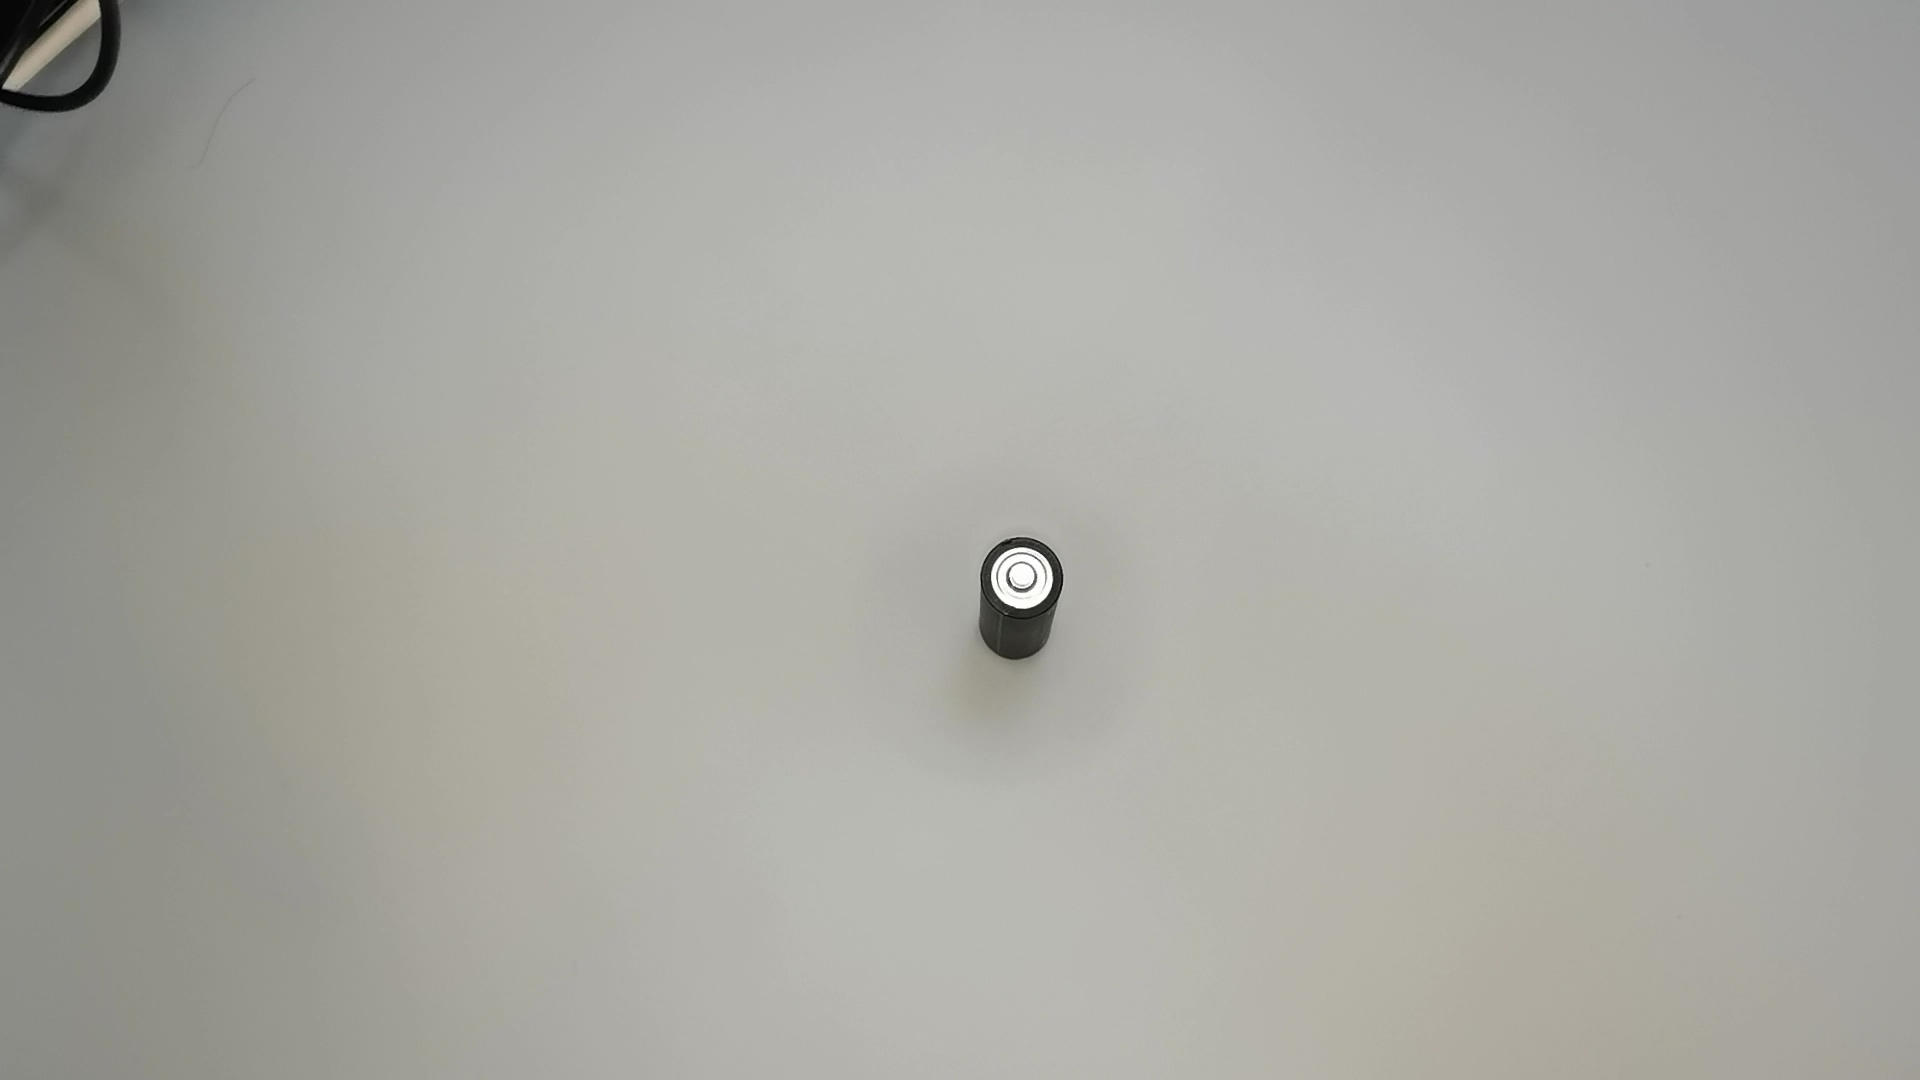battery: (975, 535, 1073, 674)
